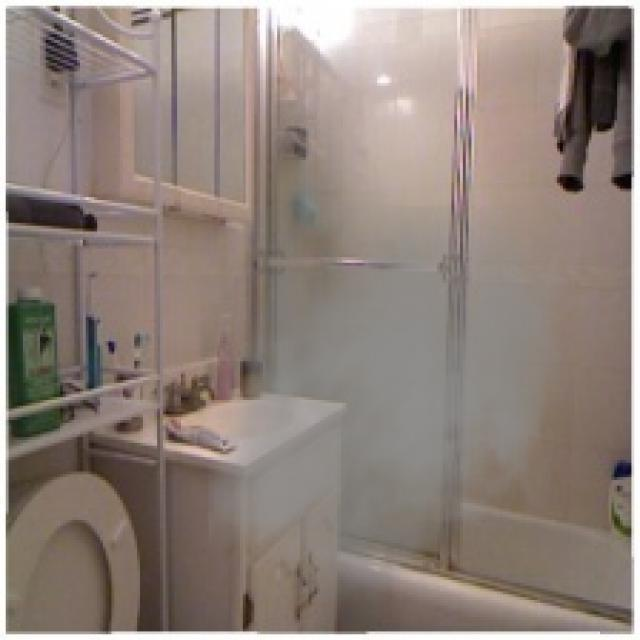Smoke: (208, 205, 566, 618)
